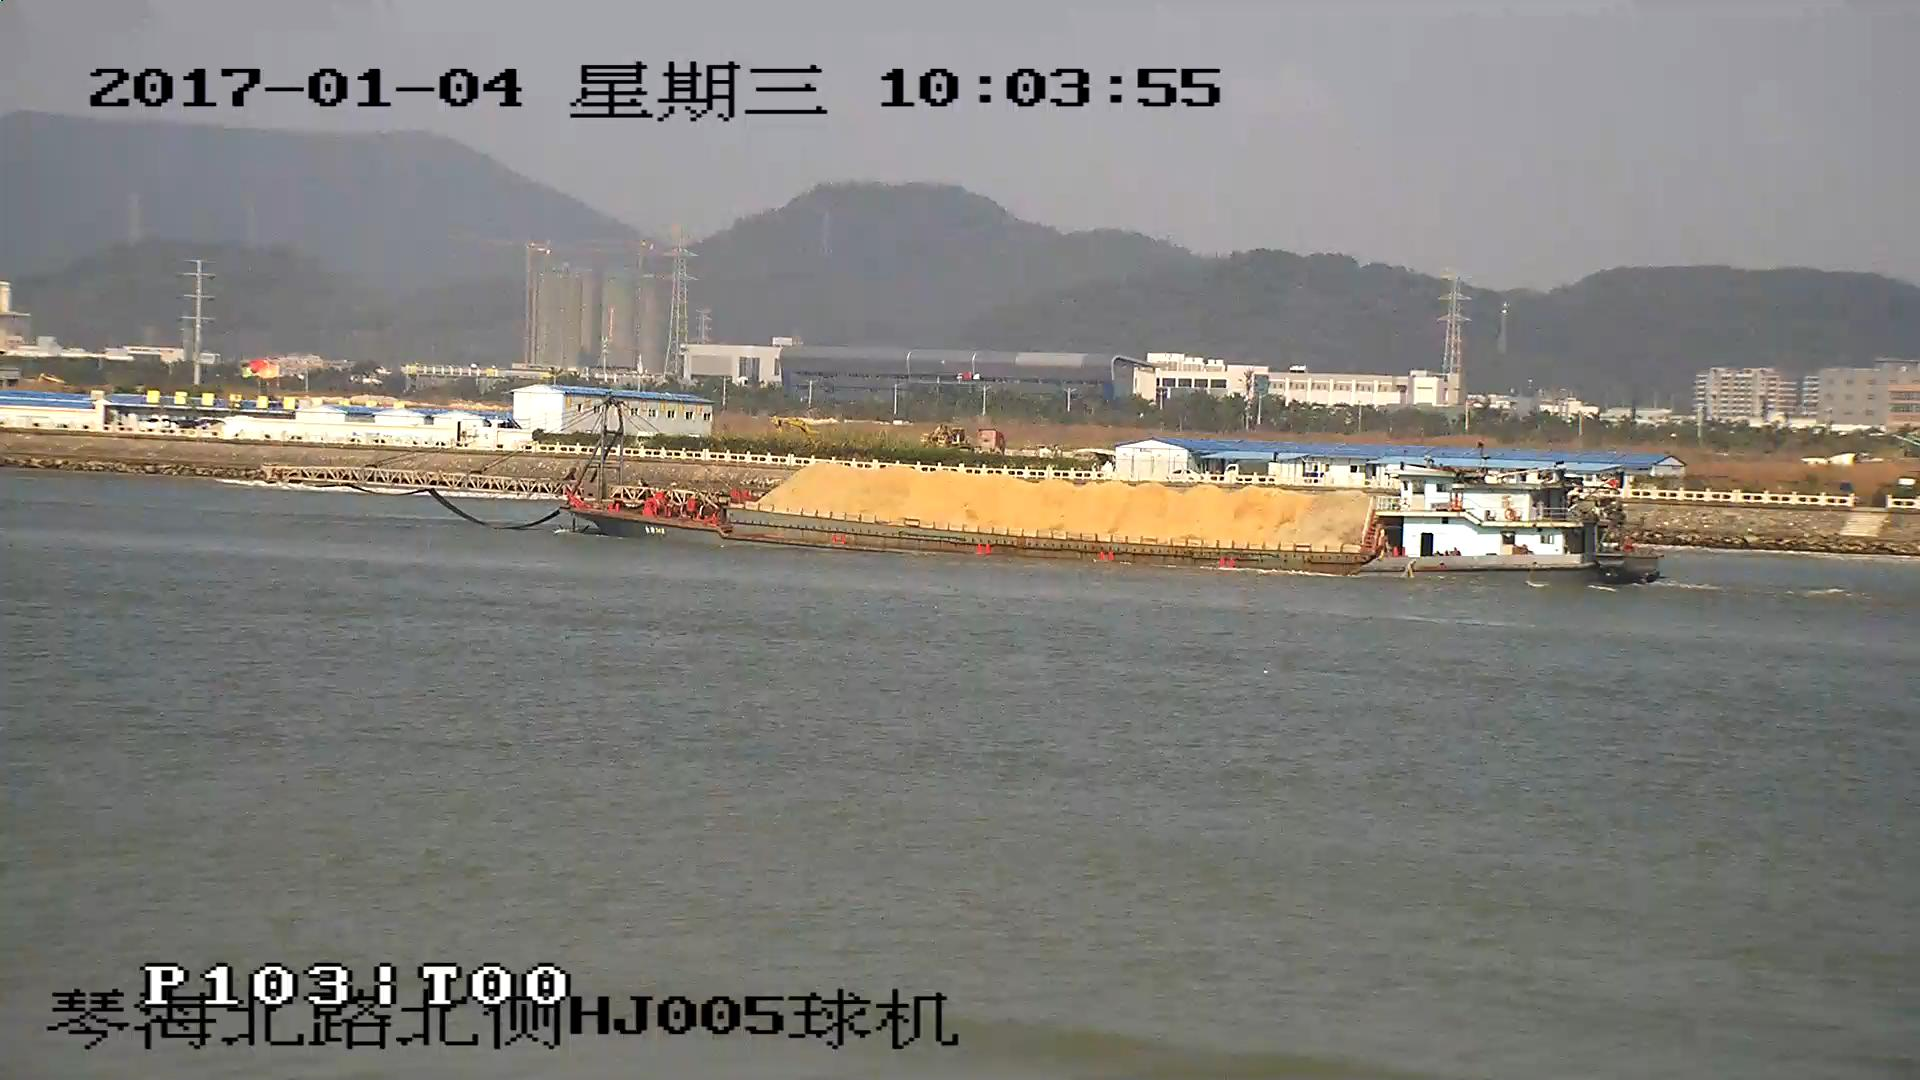ore carrier: (262, 400, 1662, 585)
